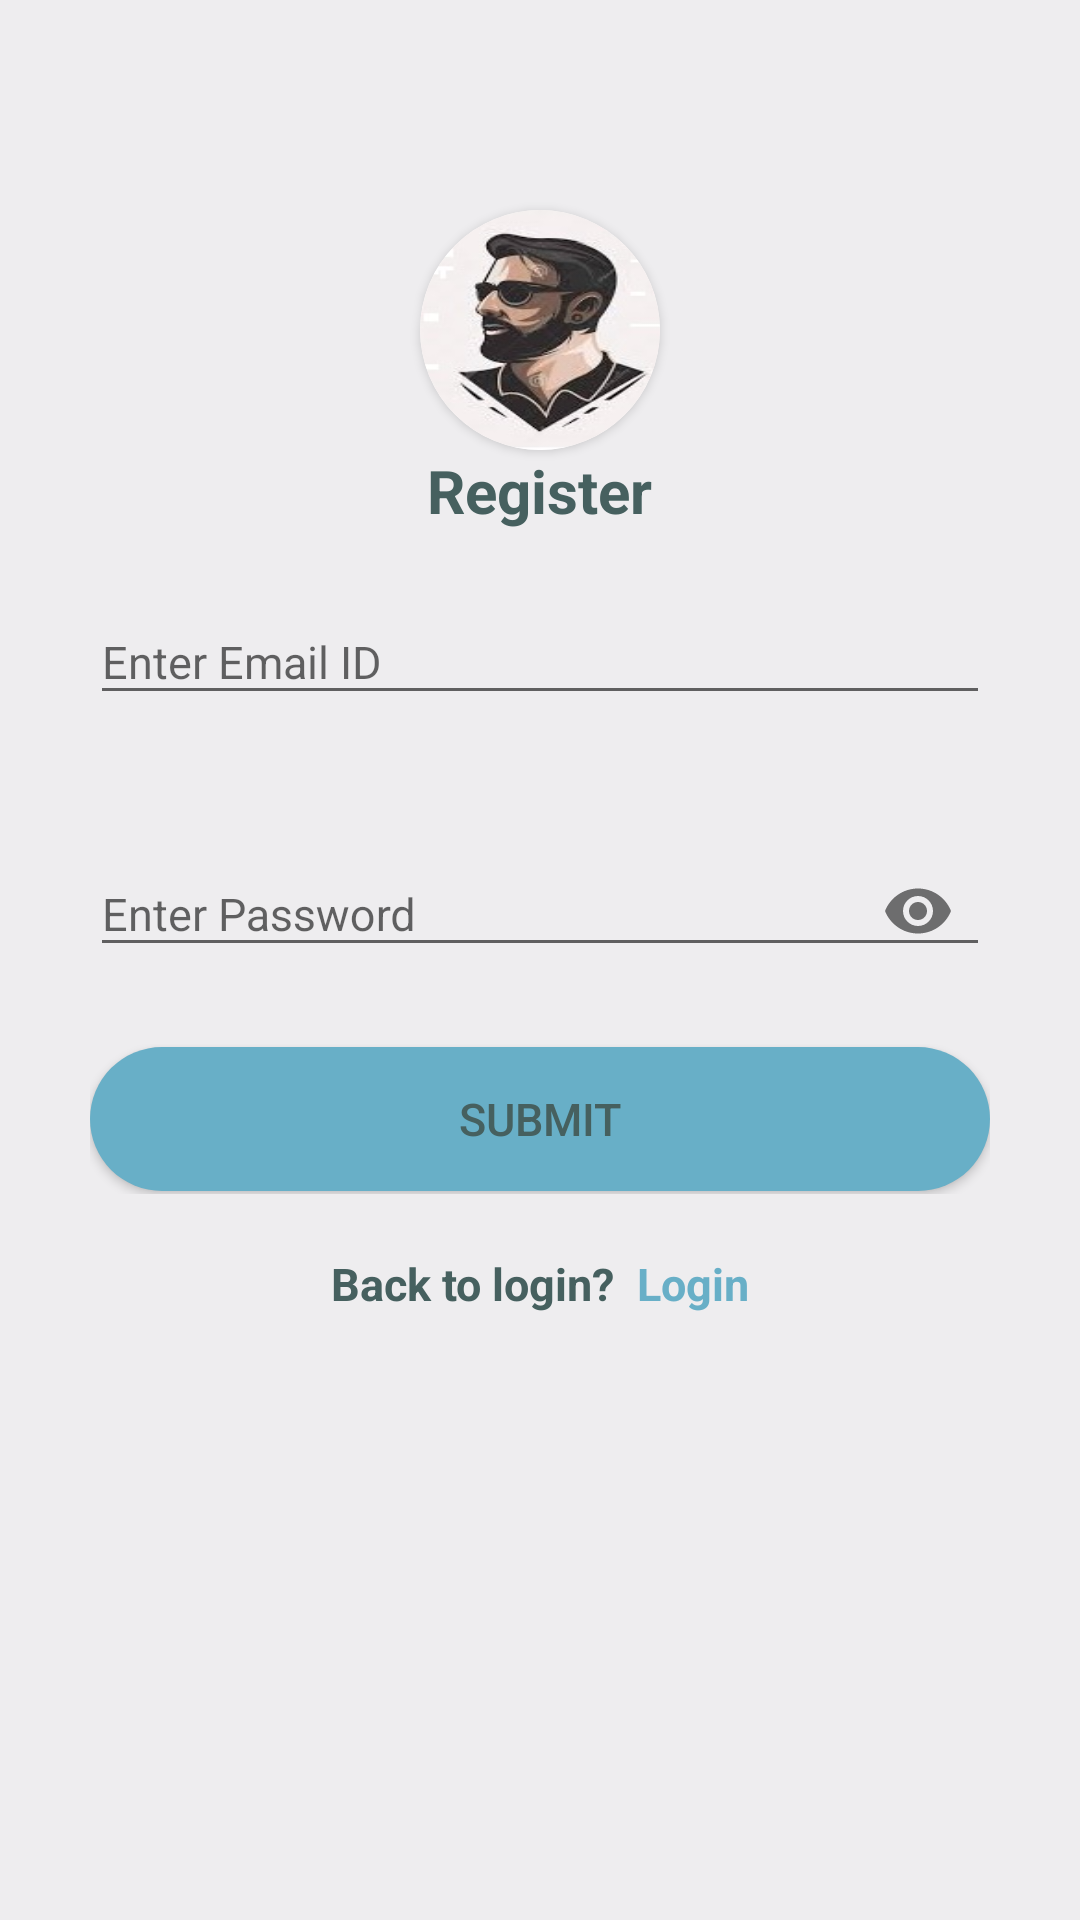

Named icons in this screenshot (1080px×1920px) and their centers, [x,y]:
loginicon: [552,332]
